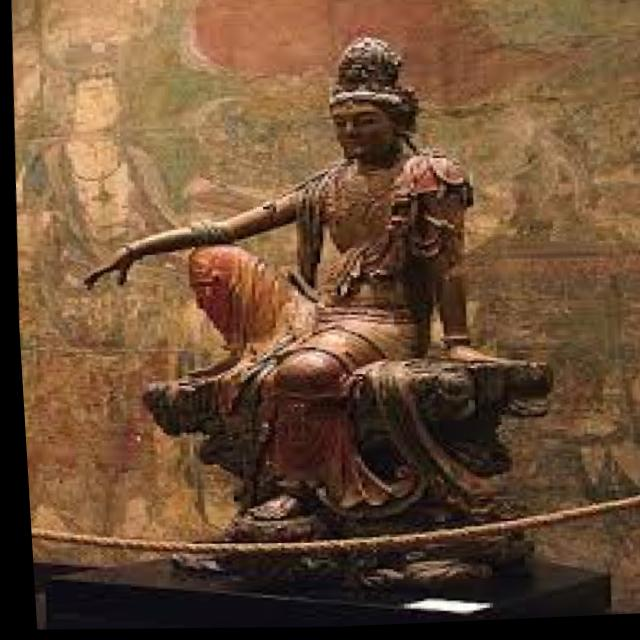Guan Yin: (311, 38, 426, 160)
